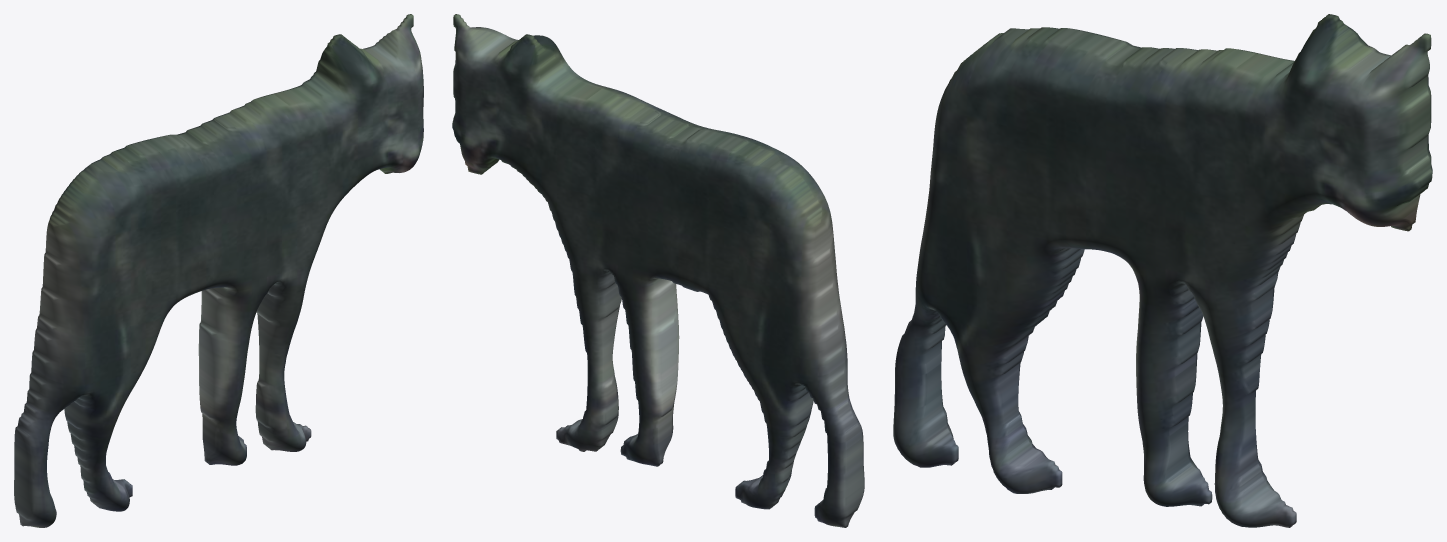
The model's file is grey_wolf_4909114.glb.
The picture shows the model from 3 angles, left to right: view 1: azimuth 30°, elevation 25°; view 2: azimuth 150°, elevation 25°; view 3: azimuth 330°, elevation 25°; orthographic projection. The views are drawn at different scales.
Visible parts, largest first — view 1: grey_wolf_4909114; view 2: grey_wolf_4909114; view 3: grey_wolf_4909114.
Boxes of the visible parts, x1,y1,x2,y2 form: grey_wolf_4909114: [14, 14, 423, 527]; grey_wolf_4909114: [452, 14, 864, 527]; grey_wolf_4909114: [893, 14, 1432, 527].
Size of the model in its own units: 1.92 by 1.94 by 0.3297.
1 material, 1 textured.
